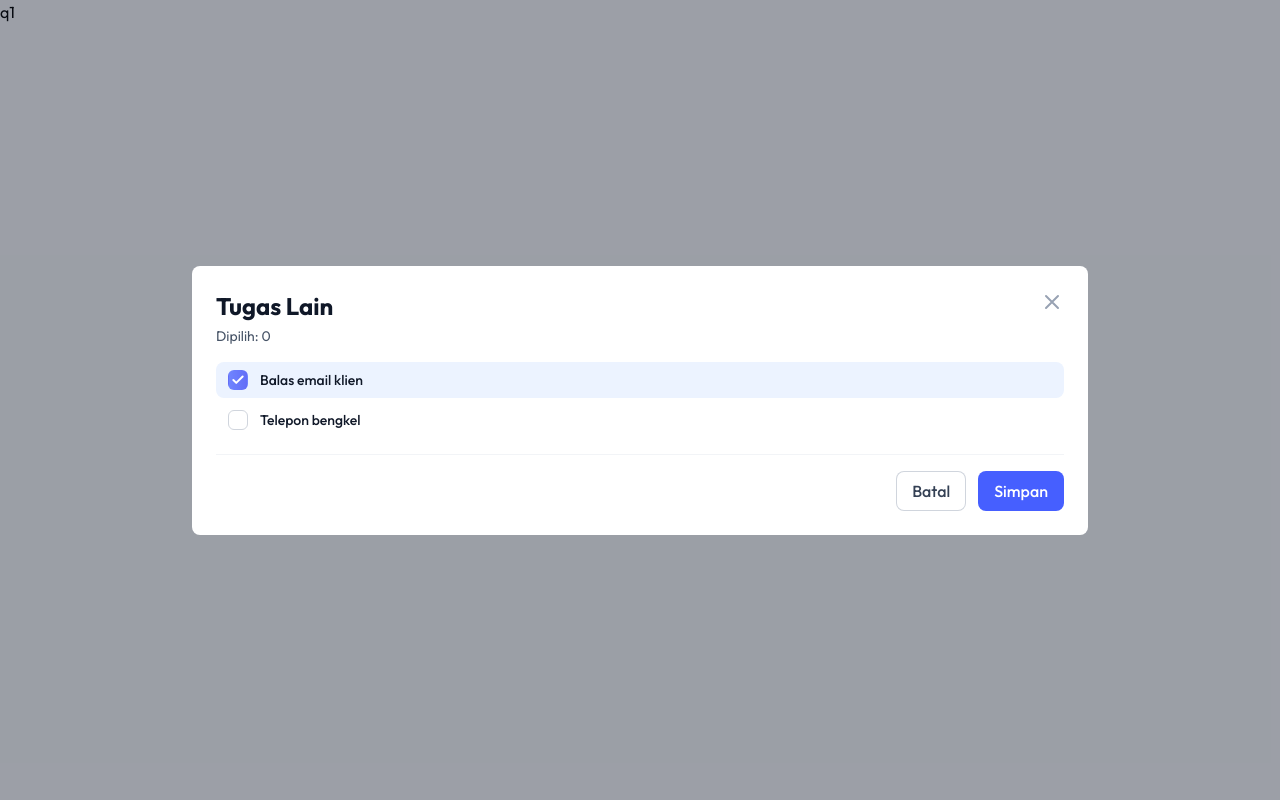
Test: SideQuestModal (bug 7 Okt 2026: Side Quest tidak bisa dipilih) › centang bertahan walau induk render ulang setelah menerima pilihan
The width and height of the screenshot is (1280, 800).
Check: the text with test id "picks" reads "q1", box [0,2,15,22]
Click the checkbox next to "Telepon bengkel" at x=238, y=420, box [228,410,248,430]
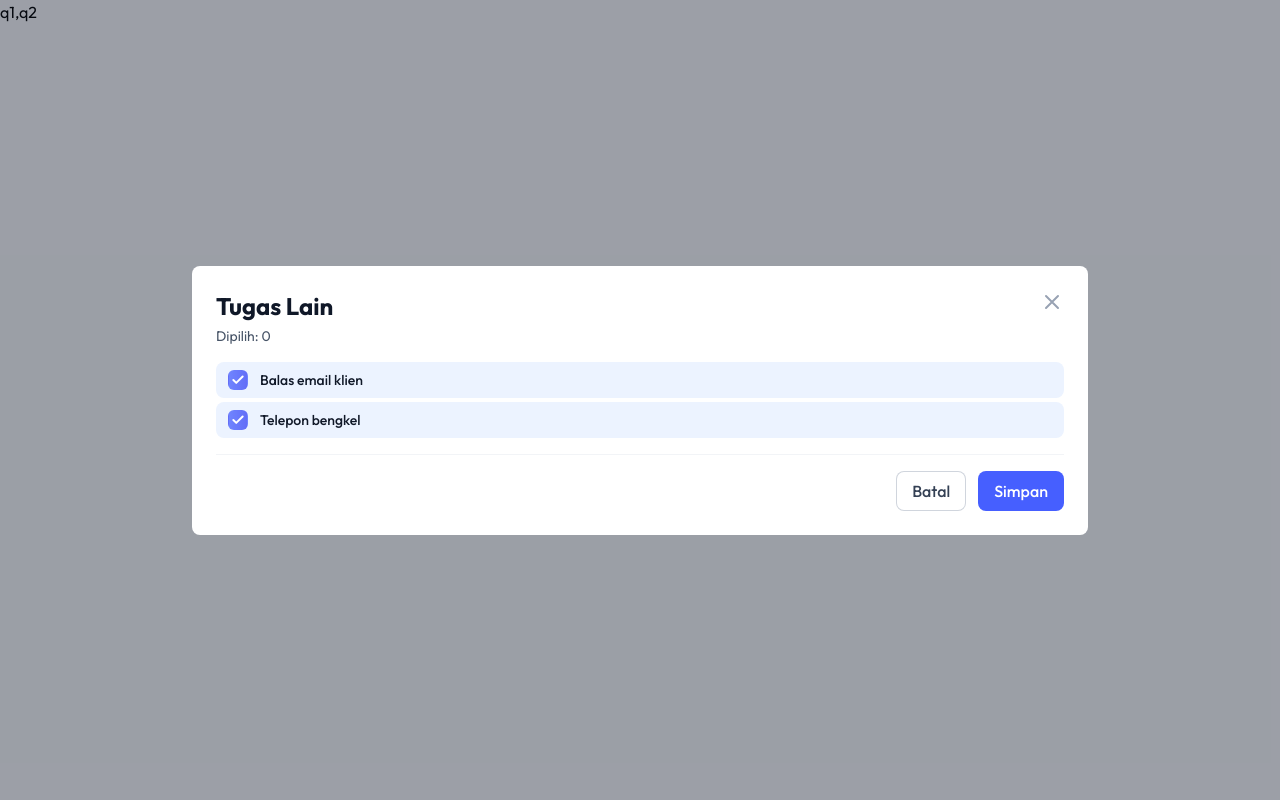
Check: the text with test id "picks" reads "q1,q2", box [0,2,37,22]
Click the checkbox next to "Balas email klien" at x=238, y=380, box [228,370,248,390]
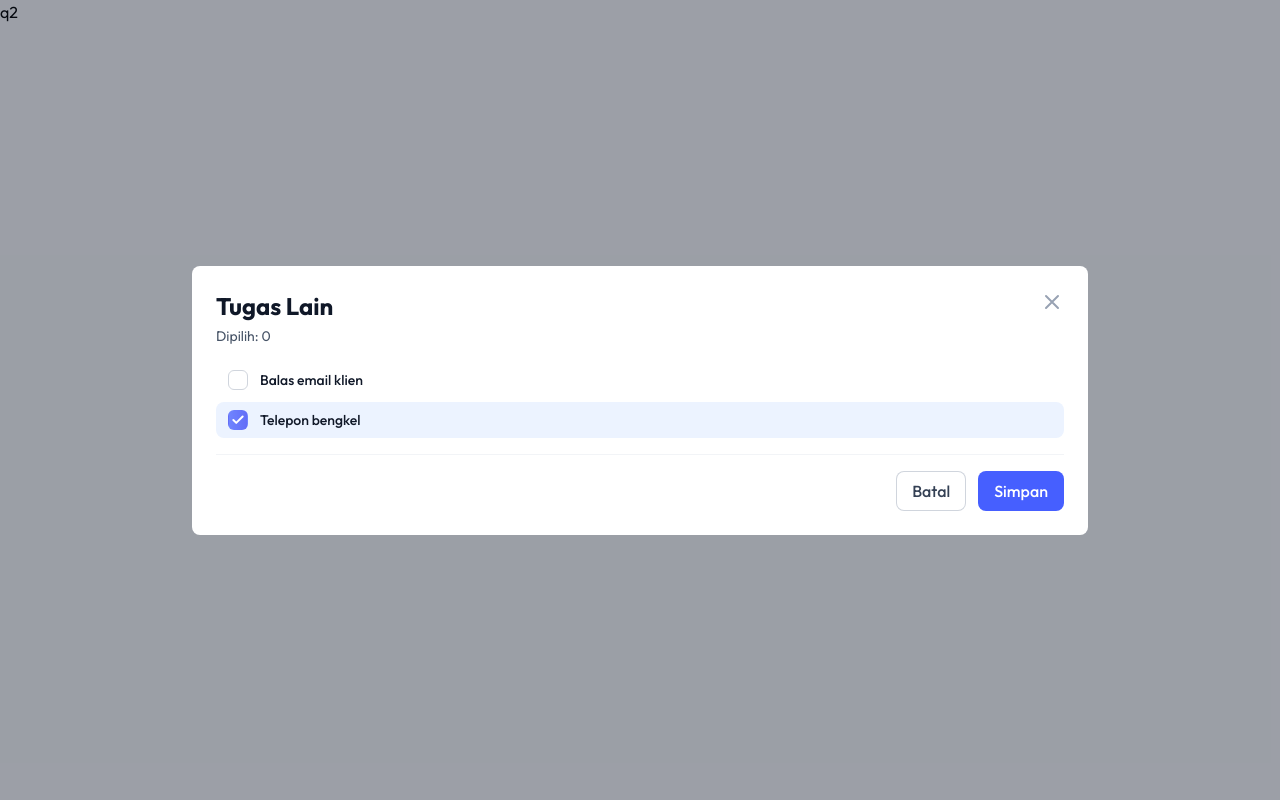
Check: the text with test id "picks" reads "q2", box [0,2,18,22]
